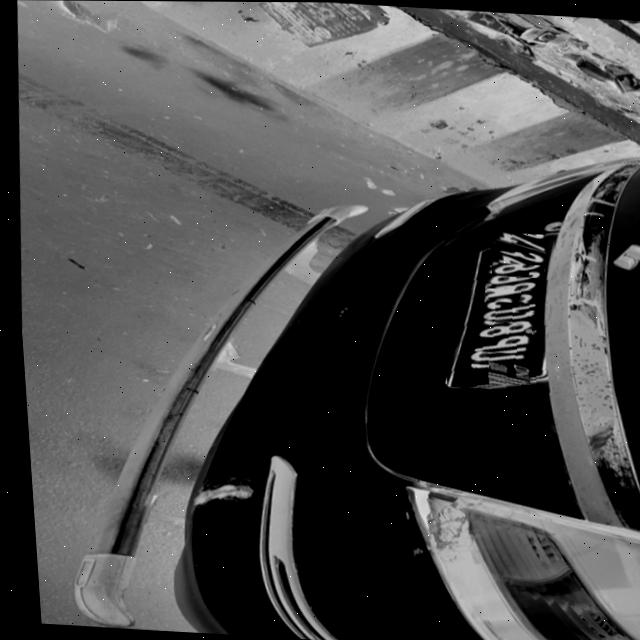0: (470, 302, 534, 326)
3: (488, 243, 542, 265)
4: (490, 231, 542, 253)
8: (472, 316, 527, 339), (487, 255, 540, 278)
9: (480, 264, 540, 290)
C: (480, 288, 534, 313)
IND: (481, 362, 524, 381)
Indian_registered: (441, 231, 549, 388)
M: (479, 276, 535, 302)
P: (464, 331, 529, 354)
U: (461, 343, 525, 368)
